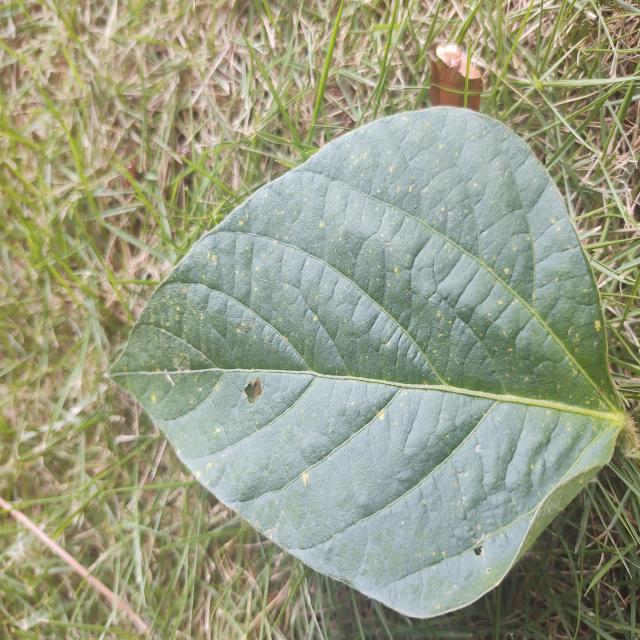Soybean: (109, 106, 628, 623)
downey_mildew: (357, 282, 508, 469), (328, 206, 476, 391), (482, 244, 618, 400), (500, 429, 627, 563), (457, 166, 519, 337), (237, 298, 316, 430), (590, 244, 637, 432), (312, 384, 403, 474), (429, 382, 629, 422), (194, 367, 325, 377), (303, 371, 397, 384)
